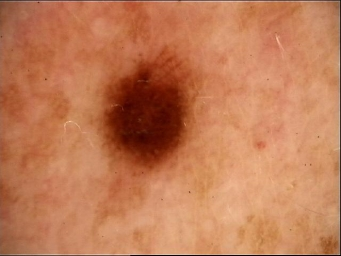nevus: (102, 55, 189, 169)
